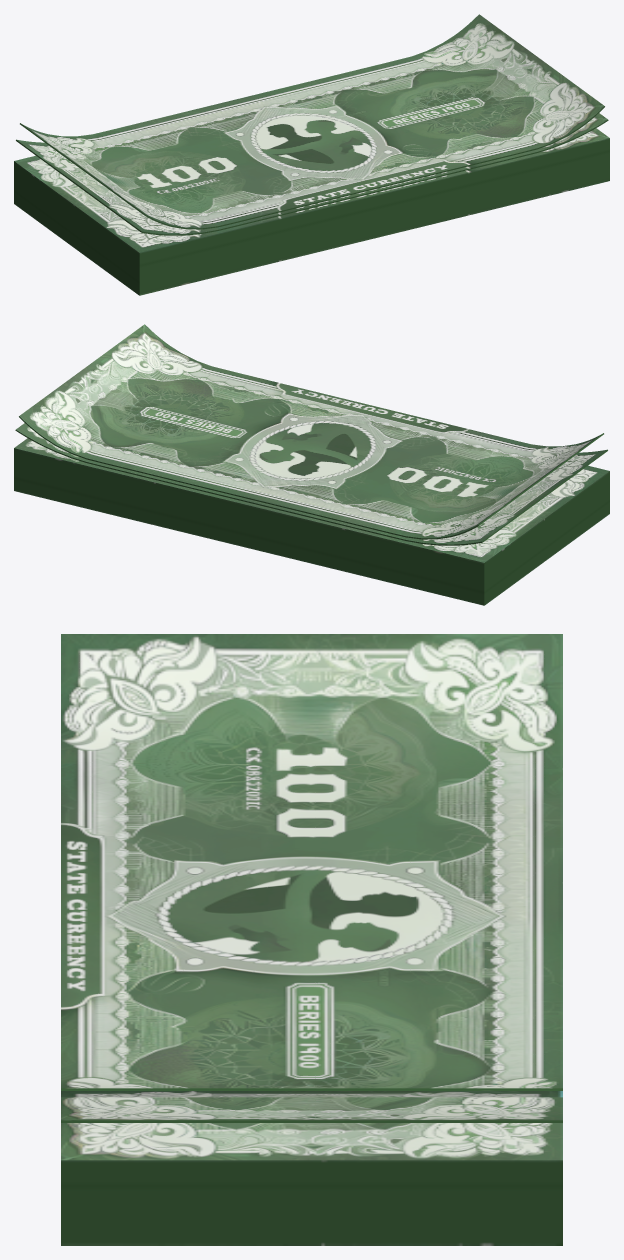
Rendered from Wealth_ng_money.fbx.
3 views of the same model, one above another, from view 1: azimuth 30°, elevation 25°; view 2: azimuth 150°, elevation 25°; view 3: azimuth 270°, elevation 25° (orthographic). The views are drawn at different scales.
Parts seen in each view (by area): view 1: Wealth_ng_money; view 2: Wealth_ng_money; view 3: Wealth_ng_money.
Part boxes in pixels (x1,y1,x2,y2): Wealth_ng_money: (14, 14, 609, 295); Wealth_ng_money: (14, 324, 609, 605); Wealth_ng_money: (61, 634, 562, 1245).
Bounding box in the file's own units: 28.6 × 4.62 × 13.22.
1 material, 1 textured.
